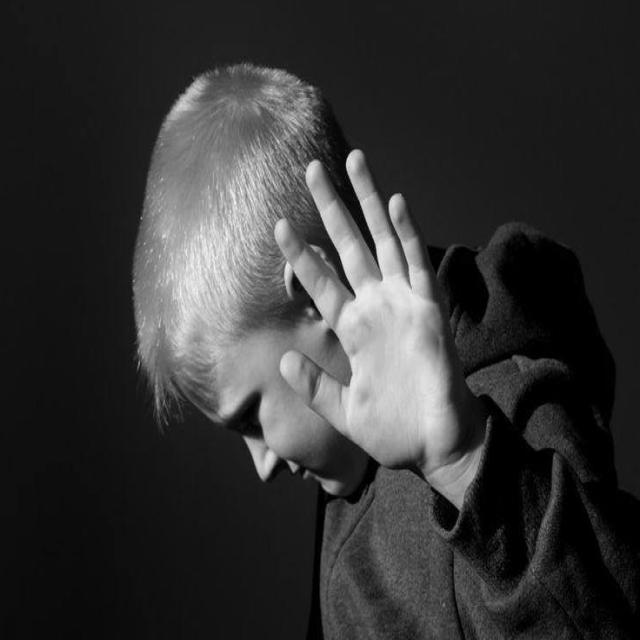stop: (270, 142, 473, 472)
